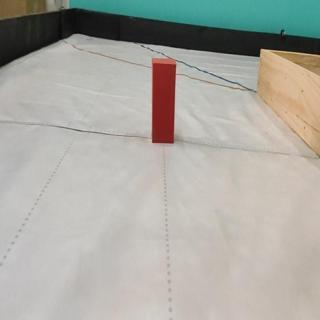redbox: (151, 58, 176, 144)
